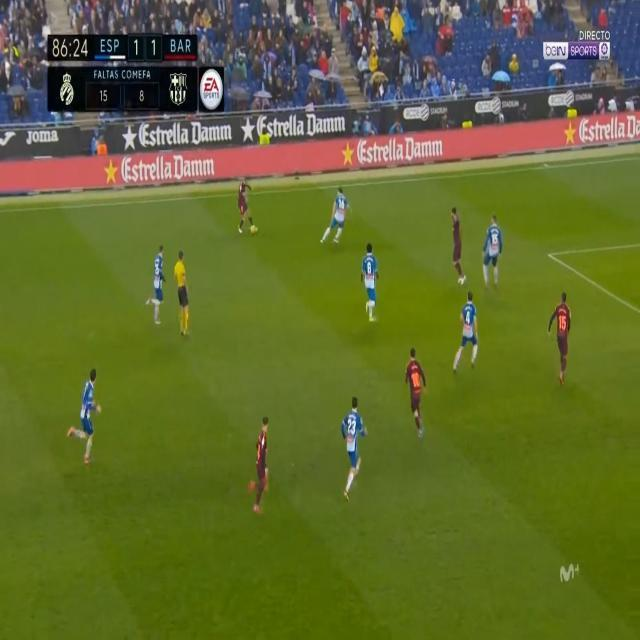ball: (249, 220, 257, 238)
player: (336, 392, 373, 508), (67, 366, 103, 473), (243, 410, 278, 520), (546, 287, 582, 391), (399, 341, 431, 441), (453, 287, 484, 377), (444, 201, 472, 289), (358, 239, 385, 325), (481, 211, 507, 289), (148, 241, 171, 329), (325, 184, 352, 251), (234, 176, 261, 238)
referee: (172, 241, 197, 340)
